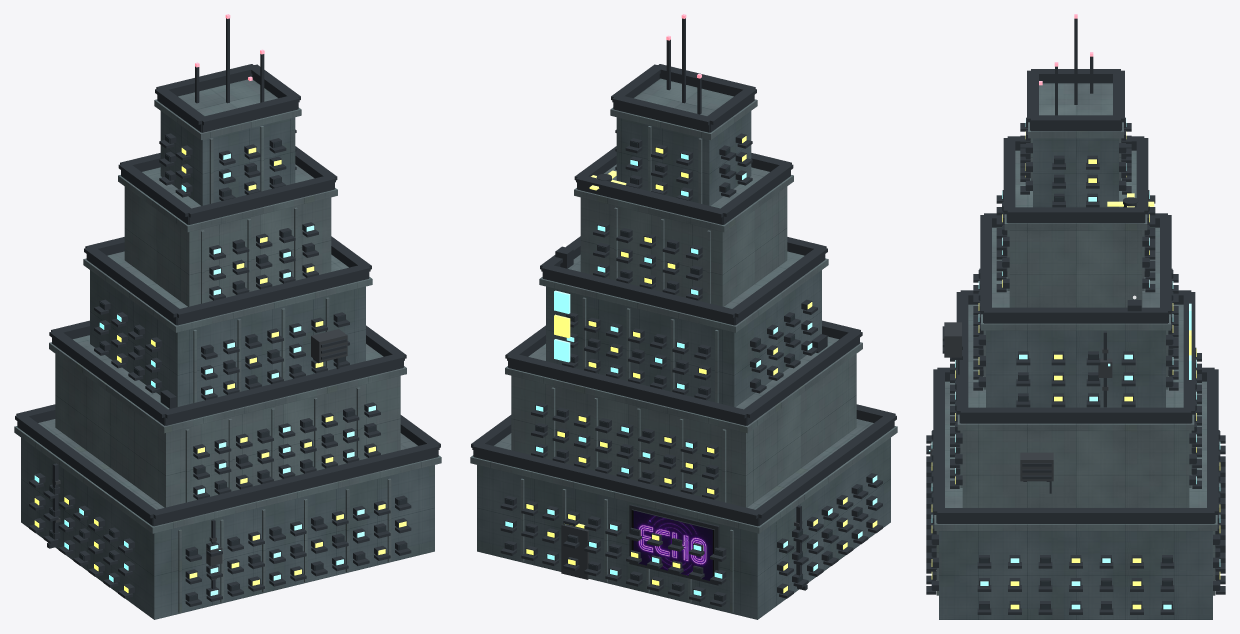
File: synthwave-mega-zigg-b.glb
The picture shows the model from 3 angles, left to right: view 1: azimuth 30°, elevation 25°; view 2: azimuth 150°, elevation 25°; view 3: azimuth 270°, elevation 25°; orthographic projection. The views are drawn at different scales.
Visible parts, largest first — view 1: MegaZigg_Body2, MegaZigg_Frame, MegaZigg_Body, MegaZigg_PaneOff, MegaZigg_Door, MegaZigg_PaneBDim, MegaZigg_PaneADim, MegaZigg_PaneAHot, MegaZigg_PaneB; view 2: MegaZigg_Frame, MegaZigg_Body2, MegaZigg_Body, Sign_ZigP, MegaZigg_PaneOff, MegaZigg_Door, MegaZigg_PaneBDim, MegaZigg_PaneADim, MegaZigg_DimB, MegaZigg_PaneB, MegaZigg_PaneAHot; view 3: MegaZigg_Frame, MegaZigg_Body2, MegaZigg_Body, MegaZigg_Door, MegaZigg_PaneOff, MegaZigg_PaneADim, MegaZigg_PaneBDim.
Part boxes in pixels (left/top/right/bottom): MegaZigg_Body2: left=14, top=79, right=441, bottom=613; MegaZigg_Frame: left=15, top=64, right=440, bottom=606; MegaZigg_Body: left=21, top=111, right=434, bottom=619; MegaZigg_PaneOff: left=49, top=136, right=406, bottom=600; MegaZigg_Door: left=52, top=329, right=347, bottom=580; MegaZigg_PaneBDim: left=34, top=153, right=364, bottom=582; MegaZigg_PaneADim: left=34, top=148, right=406, bottom=592; MegaZigg_PaneAHot: left=64, top=147, right=385, bottom=575; MegaZigg_PaneB: left=64, top=172, right=375, bottom=595; MegaZigg_Frame: left=471, top=64, right=896, bottom=606; MegaZigg_Body2: left=470, top=78, right=897, bottom=613; MegaZigg_Body: left=477, top=111, right=890, bottom=619; Sign_ZigP: left=631, top=510, right=714, bottom=580; MegaZigg_PaneOff: left=505, top=141, right=862, bottom=600; MegaZigg_Door: left=561, top=521, right=802, bottom=579; MegaZigg_PaneBDim: left=547, top=153, right=877, bottom=595; MegaZigg_PaneADim: left=547, top=136, right=877, bottom=592; MegaZigg_DimB: left=554, top=290, right=570, bottom=362; MegaZigg_PaneB: left=505, top=160, right=877, bottom=578; MegaZigg_PaneAHot: left=526, top=147, right=847, bottom=557; MegaZigg_Frame: left=926, top=69, right=1225, bottom=614; MegaZigg_Body2: left=934, top=83, right=1217, bottom=595; MegaZigg_Body: left=939, top=138, right=1212, bottom=619; MegaZigg_Door: left=930, top=322, right=1112, bottom=481; MegaZigg_PaneOff: left=931, top=144, right=1220, bottom=609; MegaZigg_PaneADim: left=931, top=159, right=1220, bottom=609; MegaZigg_PaneBDim: left=931, top=119, right=1220, bottom=609.
Size of the model in its own units: 1.83 by 3.02 by 1.53.
16 materials, 3 textured.
